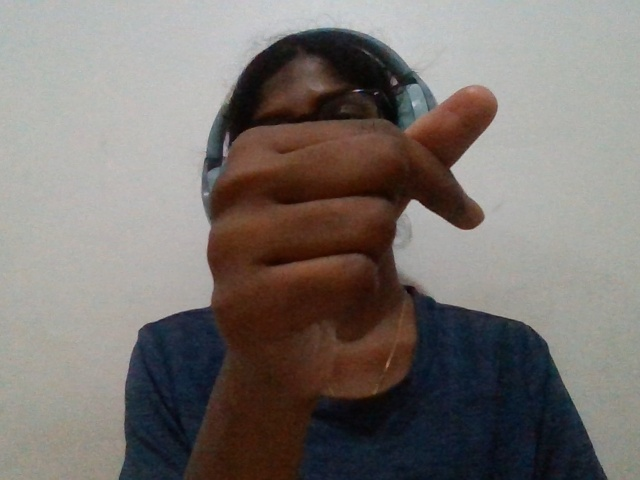G: (152, 63, 510, 473)
